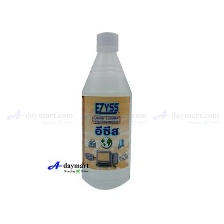cleaning_solution: (77, 28, 133, 192)
